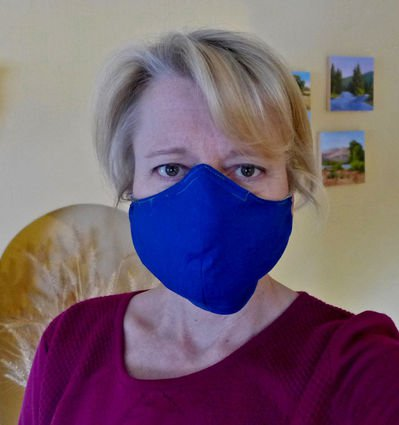mask: (86, 35, 323, 319)
